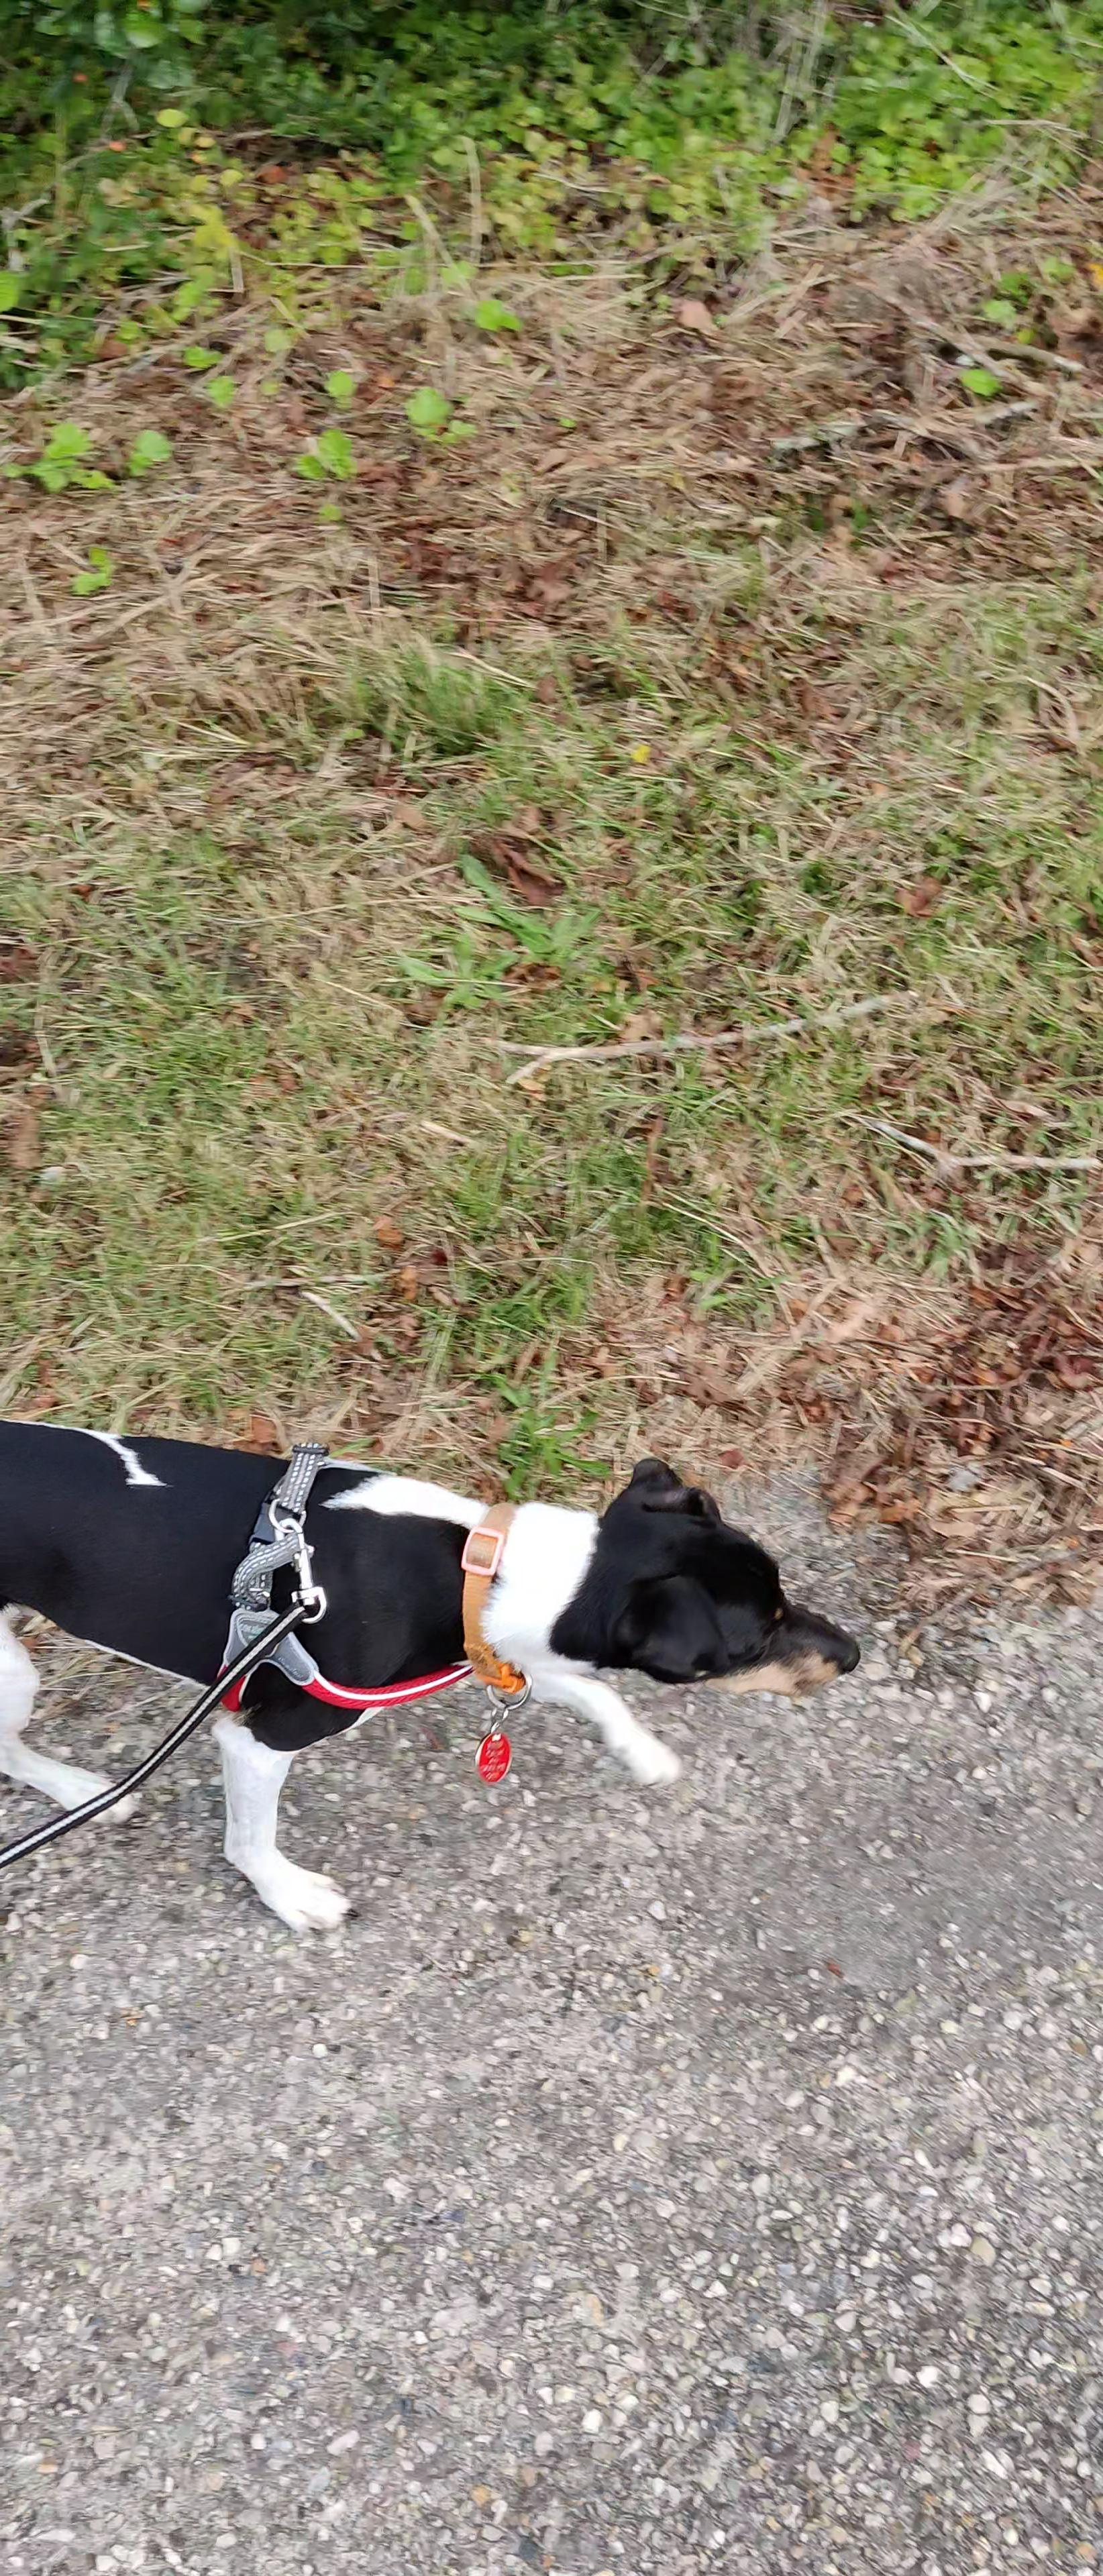Dog: (0, 1362, 876, 1963)
